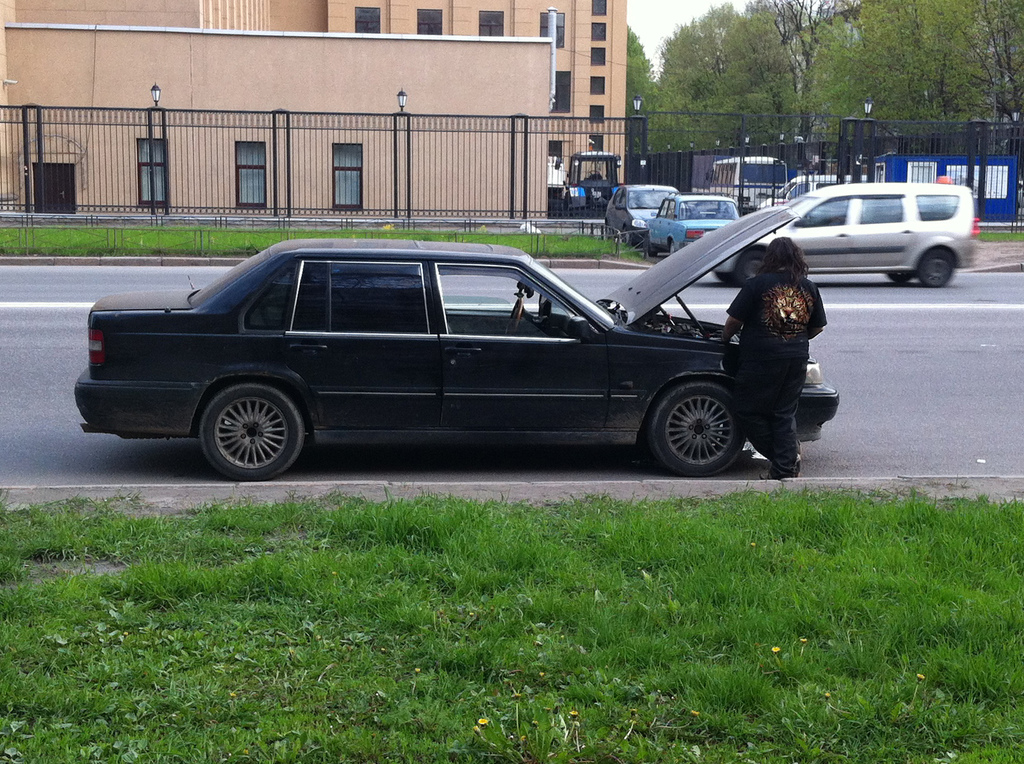Person: (720, 235, 827, 479)
